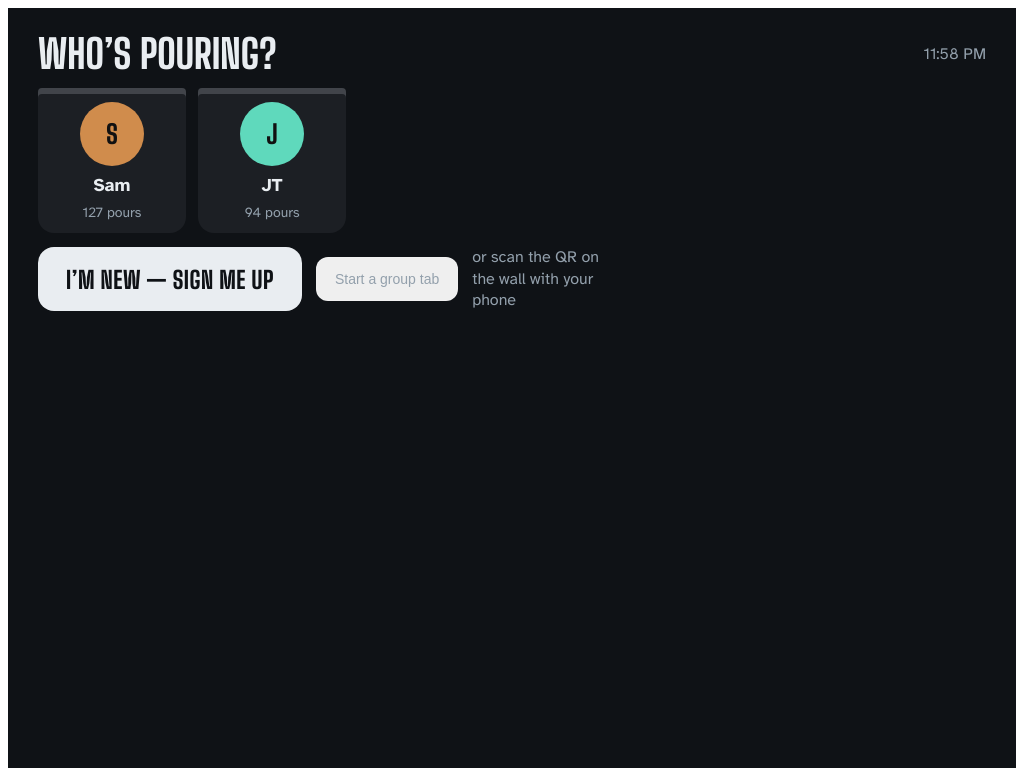
Test: TabletPage (design 3a) › screen 3: shows the auto-detected tap and live counter while pouring
This screenshot has width=1024, height=768.
Click the button with test id "tablet-avatar" showing "S Sam 127 pours": (112, 160) [38,88,186,233]
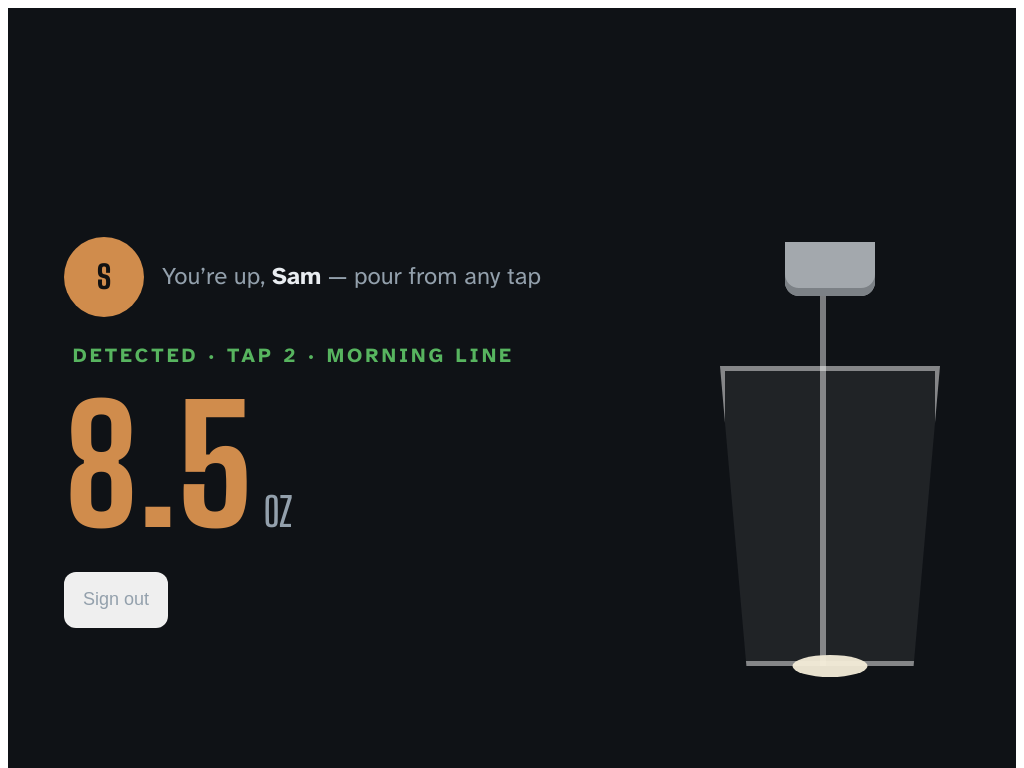
Check: the element with test id "tablet-detected" reads "DETECTED · TAP 2 · MORNING LINE", box [73,342,514,368]
Check: the element with test id "tablet-counter" shows "8.5", box [64,370,254,560]
